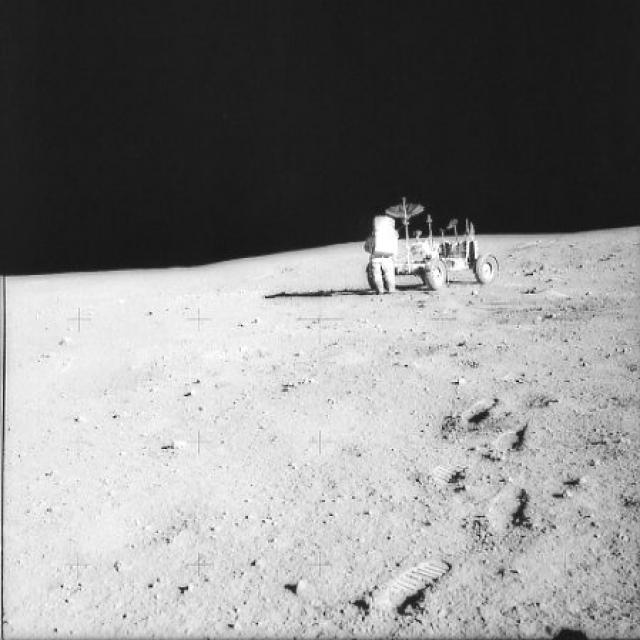crater: (336, 329, 457, 367)
rock: (284, 574, 312, 598), (174, 385, 208, 402), (166, 434, 192, 454), (174, 580, 196, 601), (49, 333, 76, 350), (560, 481, 578, 505), (248, 556, 269, 572)
